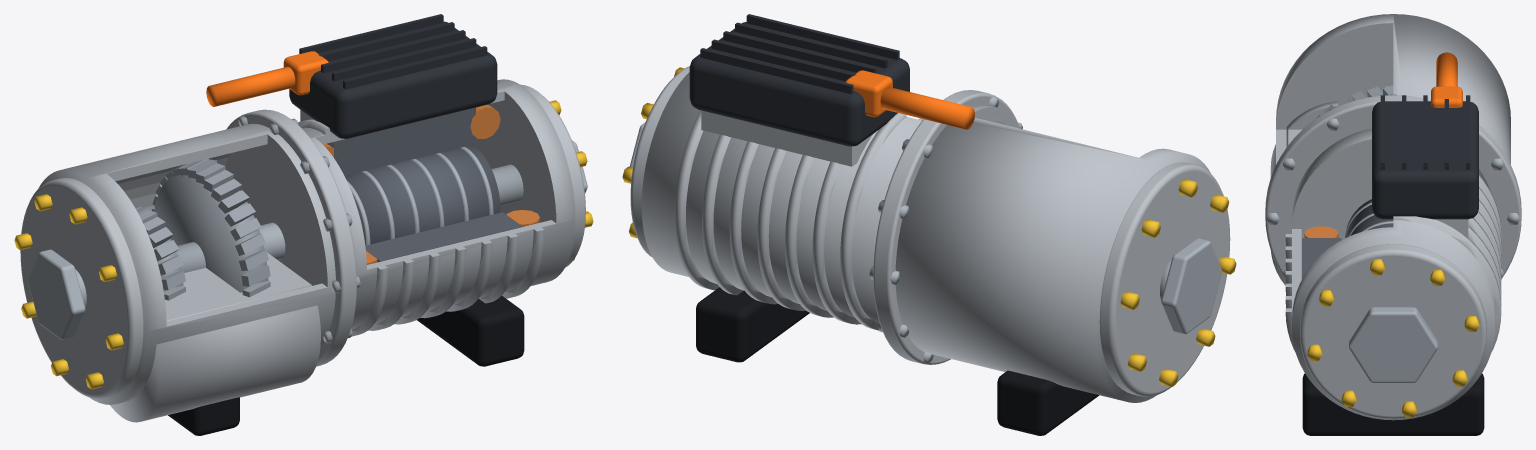
Rendered from eaxle.glb.
3 renders of one model, left to right at view 1: azimuth 30°, elevation 25°; view 2: azimuth 150°, elevation 25°; view 3: azimuth 270°, elevation 25°, orthographic. The views are drawn at different scales.
Parts seen in each view (by area): view 1: MotorHousing, GearHousing, LayshaftBulge, GearHousingCap, JointFlange, Inverter, Rotor, Stator, GearA, Cradle_0.3, OutFlange_-1, Shaft (+17 smaller); view 2: GearHousing, MotorHousing, GearHousingCap, Inverter, JointFlange, Cradle_0.3, Cradle_-0.3, OutFlange_-1, InvMount, CoolingRib_0, HVCable, CoolingRib_6 (+12 smaller); view 3: MotorEndCap, GearHousing, MotorHousing, Inverter, JointFlange, Cradle_0.3, OutFlange_1, CoolingRib_6, LayshaftBulge, Stator, HVCable, Rotor (+14 smaller).
Boxes of the visible parts, <box> form: MotorHousing: <box>302,79,575,329</box>; GearHousing: <box>38,123,335,404</box>; LayshaftBulge: <box>110,252,320,422</box>; GearHousingCap: <box>20,178,143,398</box>; JointFlange: <box>225,109,356,366</box>; Inverter: <box>289,21,497,138</box>; Rotor: <box>344,145,500,245</box>; Stator: <box>327,107,522,262</box>; GearA: <box>154,175,268,292</box>; Cradle_0.3: <box>417,296,524,366</box>; OutFlange_-1: <box>28,249,85,339</box>; Shaft: <box>176,164,523,272</box>; GearHousing: <box>895,105,1210,402</box>; MotorHousing: <box>641,72,923,322</box>; GearHousingCap: <box>1099,162,1230,396</box>; Inverter: <box>689,22,909,146</box>; JointFlange: <box>873,90,1017,364</box>; Cradle_0.3: <box>696,287,809,362</box>; Cradle_-0.3: <box>997,370,1099,435</box>; OutFlange_-1: <box>1161,238,1221,334</box>; InvMount: <box>701,110,872,166</box>; CoolingRib_0: <box>840,113,906,330</box>; HVCable: <box>880,87,974,129</box>; CoolingRib_6: <box>674,110,719,290</box>; MotorEndCap: <box>1300,244,1486,418</box>; GearHousing: <box>1276,14,1510,164</box>; MotorHousing: <box>1292,128,1494,420</box>; Inverter: <box>1372,101,1478,219</box>; JointFlange: <box>1265,95,1521,279</box>; Cradle_0.3: <box>1302,373,1484,435</box>; OutFlange_1: <box>1349,307,1437,382</box>; CoolingRib_6: <box>1285,216,1501,352</box>; LayshaftBulge: <box>1270,101,1338,285</box>; Stator: <box>1302,238,1341,278</box>; HVCable: <box>1436,52,1457,86</box>; Rotor: <box>1346,199,1393,237</box>.
Size of the model in its own units: 1.09 by 0.57 by 0.48.
